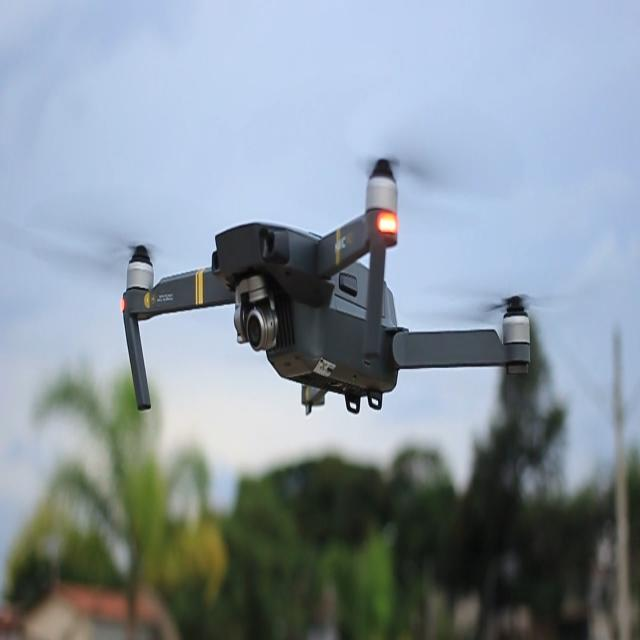Drone: (119, 166, 530, 420)
